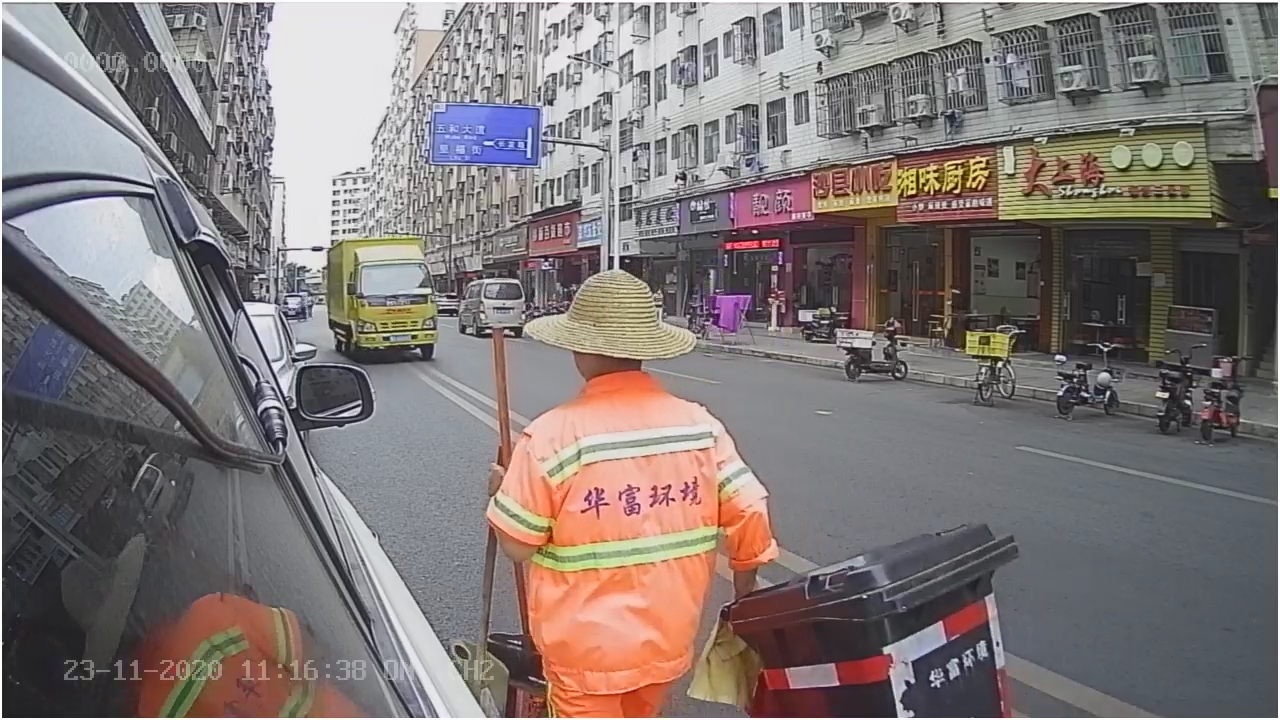person: (510, 270, 779, 588)
